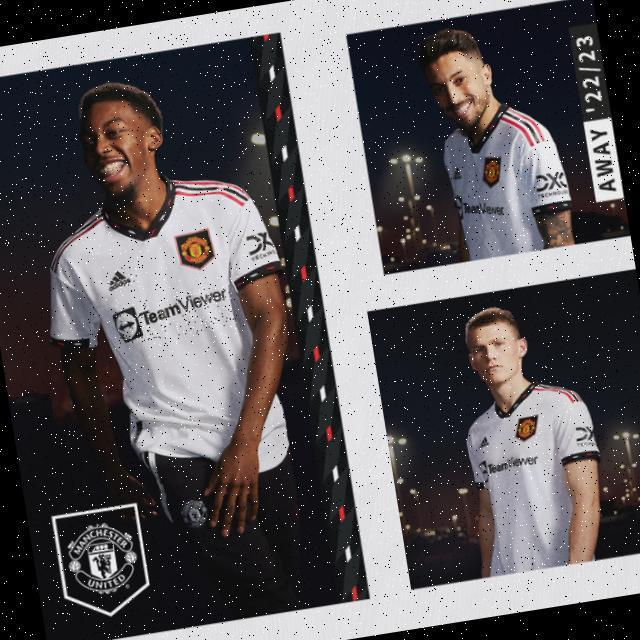Adidas: (106, 266, 141, 295)
TeamViewer: (113, 285, 238, 346)
